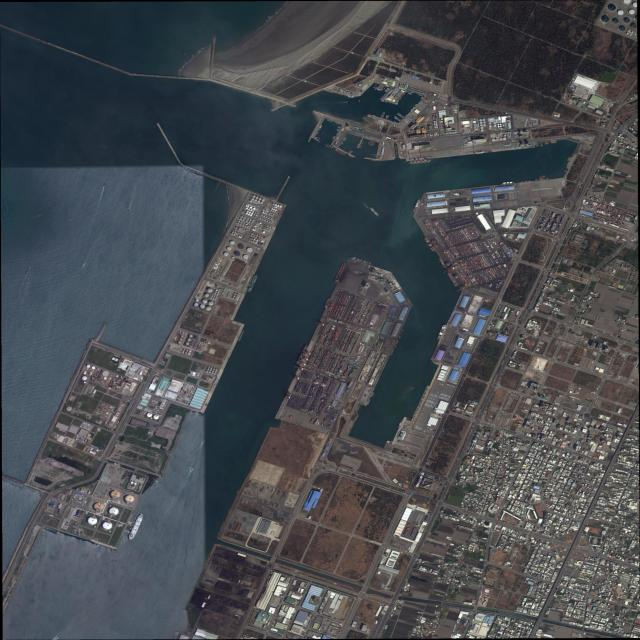ship: (127, 513, 145, 540), (333, 262, 346, 284), (296, 345, 309, 365), (247, 274, 258, 292), (350, 256, 372, 265), (446, 272, 458, 288), (424, 237, 436, 252), (437, 324, 446, 340), (368, 206, 380, 217), (412, 199, 421, 213), (409, 159, 432, 164), (438, 257, 447, 269), (237, 330, 245, 341), (335, 148, 346, 156), (324, 298, 330, 308), (398, 329, 404, 339), (500, 181, 515, 184), (394, 339, 399, 348), (390, 348, 395, 356), (398, 421, 402, 428), (567, 156, 571, 162), (326, 119, 333, 122), (521, 180, 531, 182), (319, 125, 322, 131), (316, 131, 319, 136), (348, 155, 353, 158), (335, 122, 339, 125)
storage-tank: (111, 490, 121, 499), (94, 502, 104, 511), (88, 516, 97, 525), (102, 522, 112, 530), (109, 507, 119, 515), (125, 495, 135, 503), (103, 371, 110, 377), (602, 16, 609, 22), (631, 23, 637, 29), (66, 406, 72, 412), (609, 5, 616, 10), (624, 18, 630, 23), (618, 10, 624, 15), (629, 9, 635, 14), (620, 26, 626, 31), (238, 244, 244, 249), (247, 248, 253, 253), (235, 251, 241, 256), (200, 304, 206, 309), (206, 306, 212, 311), (154, 415, 159, 420), (82, 376, 87, 381), (208, 288, 213, 293), (613, 19, 619, 23), (243, 255, 249, 259), (202, 299, 208, 303), (147, 413, 152, 417), (230, 241, 235, 245), (227, 247, 232, 251), (224, 252, 229, 256), (209, 301, 214, 305), (503, 137, 507, 141), (189, 334, 193, 338), (205, 293, 209, 297), (185, 342, 190, 345), (86, 365, 90, 368), (480, 129, 484, 132), (499, 138, 503, 141), (194, 303, 198, 306), (179, 338, 183, 341), (131, 481, 134, 484), (84, 372, 87, 375), (92, 366, 95, 369), (104, 377, 107, 380), (253, 195, 256, 198), (256, 196, 259, 199), (186, 349, 189, 352), (190, 371, 193, 374), (479, 119, 482, 122), (483, 121, 486, 124), (492, 139, 495, 142), (496, 138, 499, 141), (188, 338, 191, 341), (257, 200, 260, 203), (260, 201, 263, 204), (196, 299, 199, 302), (178, 341, 181, 344), (259, 198, 262, 200), (134, 483, 137, 485), (84, 381, 86, 384), (262, 199, 265, 201), (182, 351, 185, 353), (480, 122, 483, 124), (480, 124, 483, 126), (483, 124, 486, 126), (480, 127, 483, 129), (489, 122, 491, 125), (493, 122, 496, 124), (494, 125, 497, 127), (489, 125, 492, 127), (183, 348, 186, 350), (232, 257, 235, 259), (250, 206, 252, 209), (253, 208, 256, 210), (179, 331, 182, 333), (182, 332, 185, 334), (181, 335, 183, 338), (189, 350, 191, 352), (185, 352, 187, 354), (188, 353, 190, 355), (483, 119, 485, 121), (252, 198, 254, 200), (255, 199, 257, 201), (263, 232, 265, 234)
